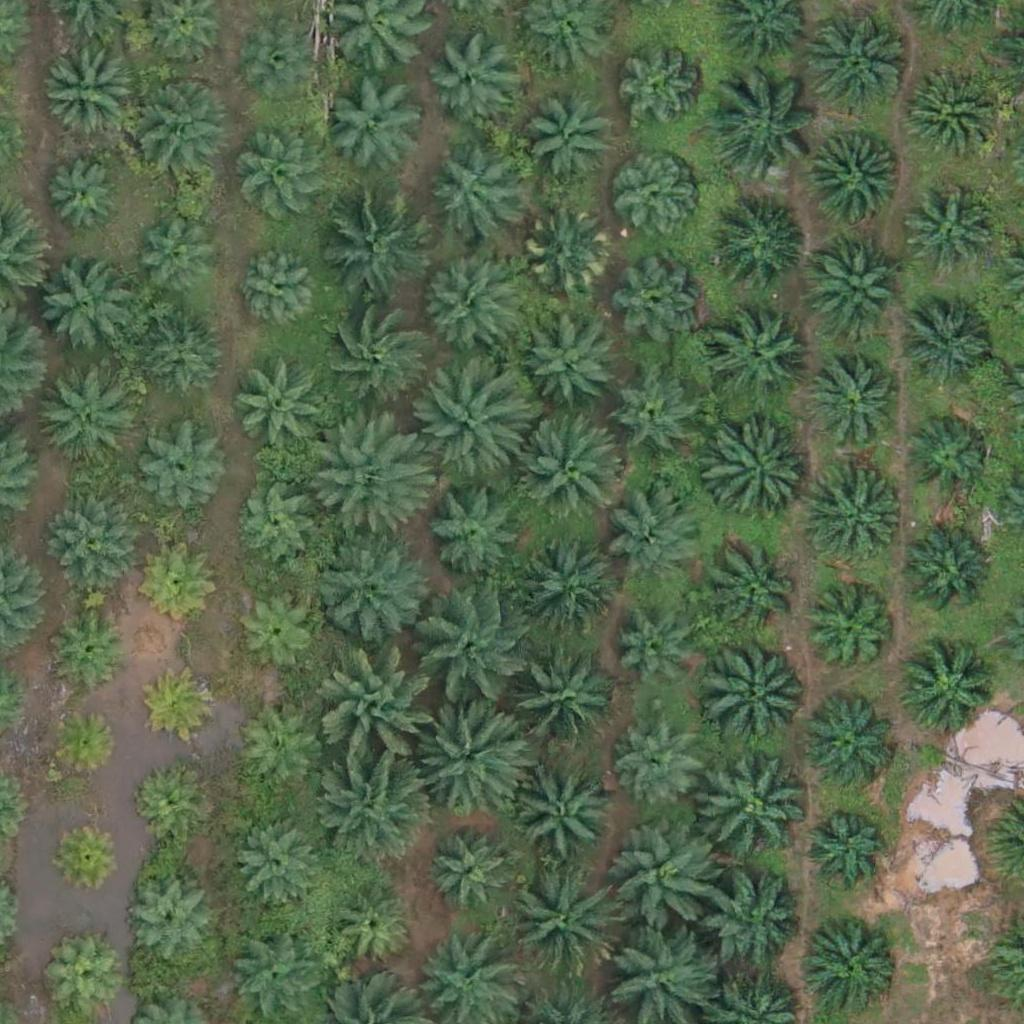Kelapa_Sawit: (503, 647, 616, 761), (504, 866, 617, 979), (710, 74, 823, 187), (696, 749, 809, 862), (420, 593, 533, 706), (319, 751, 432, 864), (609, 824, 722, 937), (702, 634, 814, 748), (419, 370, 531, 484), (325, 655, 437, 769), (320, 194, 432, 308), (516, 416, 628, 529), (415, 698, 527, 811), (312, 529, 424, 642), (312, 414, 424, 527), (316, 301, 428, 414), (802, 911, 902, 1012), (898, 64, 998, 165), (900, 293, 1000, 394), (896, 525, 996, 626), (897, 641, 997, 742), (806, 469, 906, 570), (710, 197, 810, 298), (706, 309, 806, 410), (706, 425, 806, 526), (515, 763, 615, 864), (521, 314, 621, 415), (420, 475, 520, 576), (332, 75, 432, 176), (231, 359, 331, 460), (126, 75, 226, 176), (35, 363, 135, 464), (808, 12, 908, 113), (704, 877, 804, 977), (805, 131, 905, 231), (806, 236, 906, 336), (799, 697, 899, 797), (708, 541, 808, 641), (609, 485, 709, 585), (516, 541, 616, 641), (415, 257, 515, 357), (40, 42, 140, 142), (34, 258, 134, 358), (233, 245, 321, 334), (327, 884, 415, 972), (122, 877, 210, 965), (908, 189, 996, 277), (808, 591, 896, 679), (800, 804, 888, 892), (425, 35, 513, 123), (426, 151, 514, 239), (427, 829, 515, 917), (241, 135, 329, 223), (135, 208, 223, 296), (230, 585, 318, 673), (235, 708, 323, 796), (227, 934, 314, 1023), (904, 411, 991, 499), (813, 355, 900, 443), (616, 49, 703, 137), (613, 158, 700, 246), (616, 257, 703, 345), (613, 374, 700, 462), (613, 618, 700, 706), (618, 723, 705, 811), (523, 210, 610, 298), (522, 95, 609, 183), (138, 313, 225, 401), (233, 483, 320, 571), (234, 817, 321, 905), (48, 493, 135, 581), (135, 424, 222, 512), (45, 158, 120, 234), (129, 763, 204, 839), (245, 25, 320, 101), (46, 943, 121, 1019), (51, 816, 126, 892), (144, 667, 219, 743), (54, 609, 129, 684), (46, 706, 121, 781), (144, 545, 219, 620)
